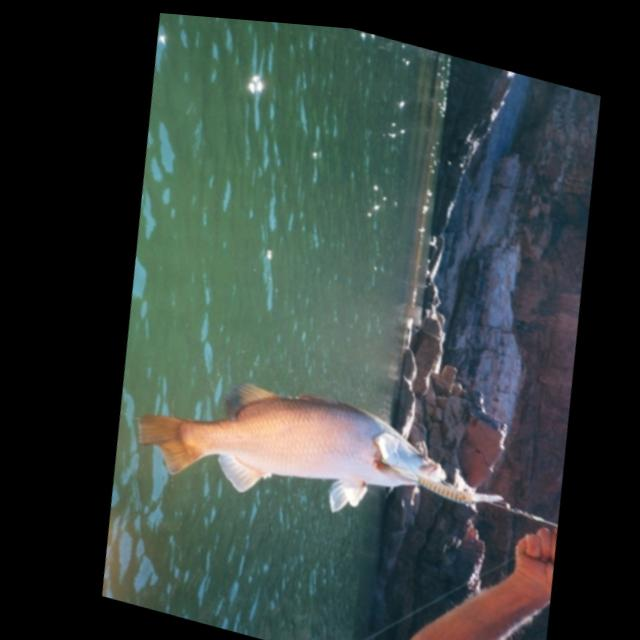Seabass: (127, 348, 464, 551)
